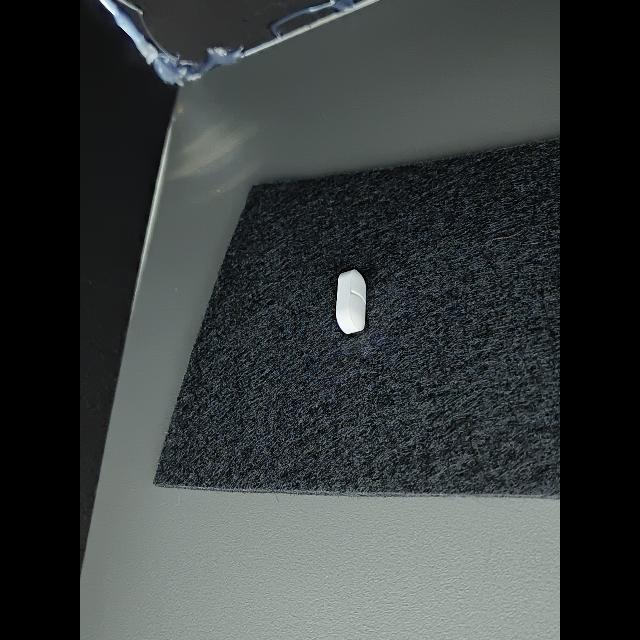Intact Pill: (336, 269, 366, 334)
